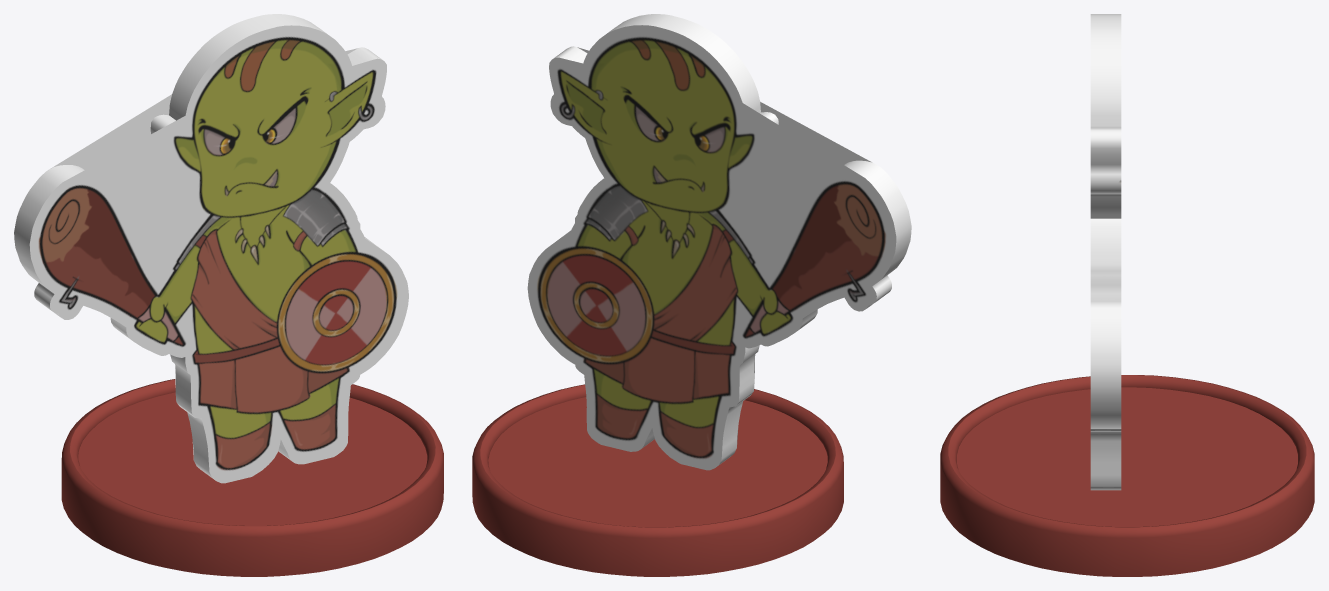
File: inimigo.fbx
The picture shows the model from 3 angles, left to right: view 1: azimuth 30°, elevation 25°; view 2: azimuth 150°, elevation 25°; view 3: azimuth 270°, elevation 25°; orthographic projection. The views are drawn at different scales.
Visible parts, largest first — view 1: bonequinho; view 2: bonequinho; view 3: bonequinho.
Boxes of the visible parts, x1,y1,x2,y2 form: bonequinho: [14, 14, 443, 576]; bonequinho: [472, 14, 911, 576]; bonequinho: [940, 14, 1314, 576].
Size of the model in its own units: 115 by 130 by 92.99.
